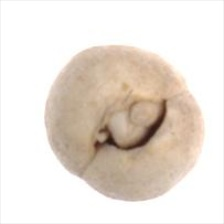L3: (86, 92, 169, 159)
L4: (44, 44, 204, 202)
